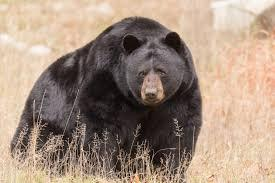bear: (9, 15, 202, 183)
